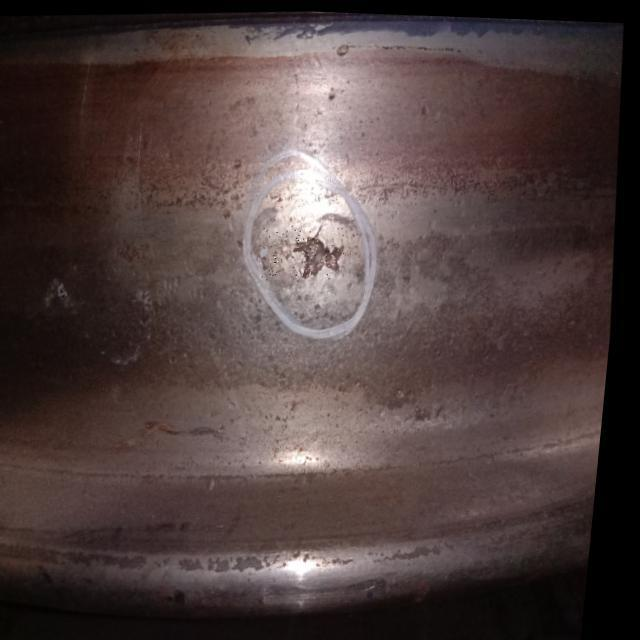Blue hole: (263, 221, 354, 282)
